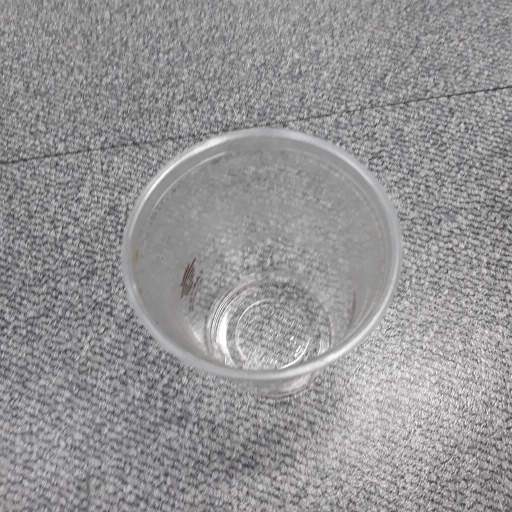Plastic_2: (110, 128, 402, 403)
